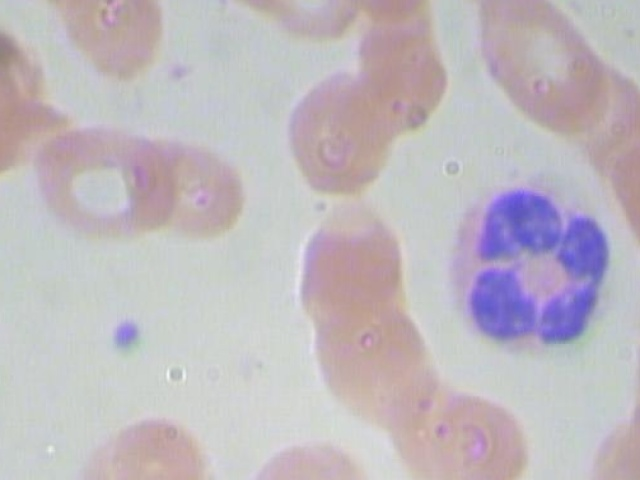Platelets: (86, 315, 158, 361)
RBC: (462, 0, 629, 137), (261, 57, 411, 207), (273, 197, 429, 339), (299, 291, 455, 433), (23, 124, 179, 245), (385, 363, 541, 480), (127, 132, 255, 245), (552, 36, 640, 190), (343, 8, 448, 133), (47, 0, 182, 87), (66, 410, 222, 480), (236, 422, 392, 480), (0, 89, 74, 203), (0, 19, 60, 140), (605, 112, 640, 275), (252, 0, 368, 44), (583, 409, 640, 480), (616, 199, 640, 363), (621, 290, 640, 426), (621, 350, 640, 480), (334, 0, 455, 14)
WBC: (431, 179, 623, 359)
